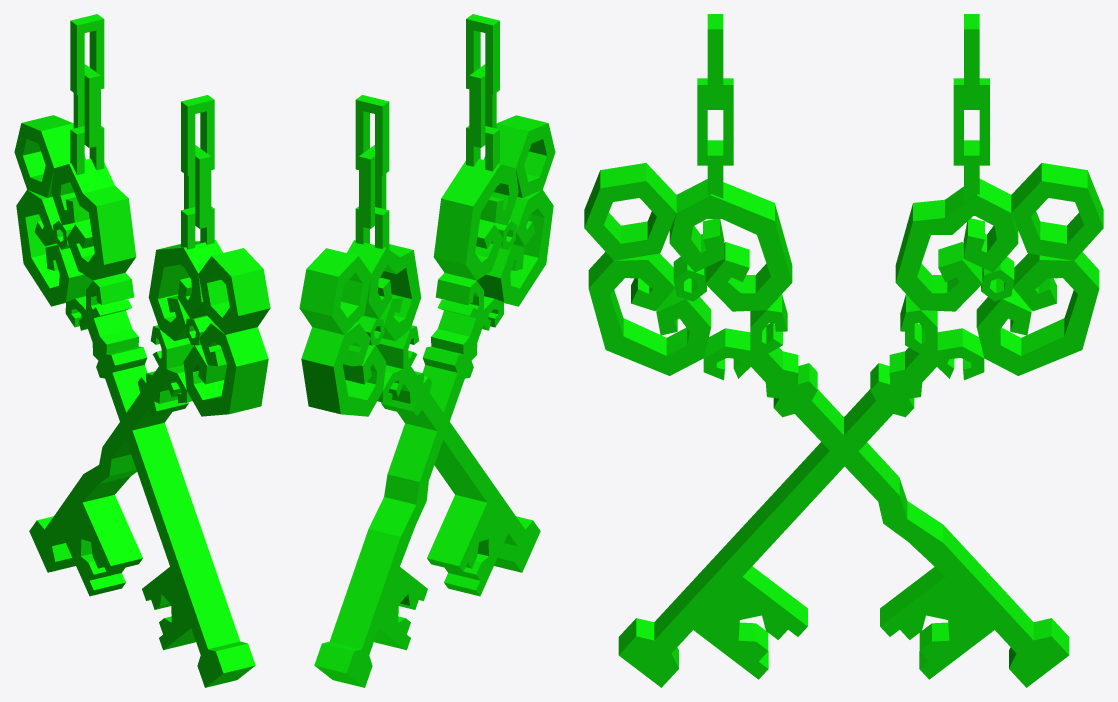
File: SM_Signboard_Key_Fantasy.fbx
The picture shows the model from 3 angles, left to right: view 1: azimuth 30°, elevation 25°; view 2: azimuth 150°, elevation 25°; view 3: azimuth 270°, elevation 25°; orthographic projection. The views are drawn at different scales.
Visible parts, largest first — view 1: singboard-key-fantasy; view 2: singboard-key-fantasy; view 3: singboard-key-fantasy.
Part boxes in pixels (left/top/right/bottom): singboard-key-fantasy: left=14, top=14, right=270, bottom=687; singboard-key-fantasy: left=299, top=14, right=555, bottom=687; singboard-key-fantasy: left=584, top=14, right=1103, bottom=687.
Size of the model in its own units: 0.0799 by 1.34 by 0.9595.
